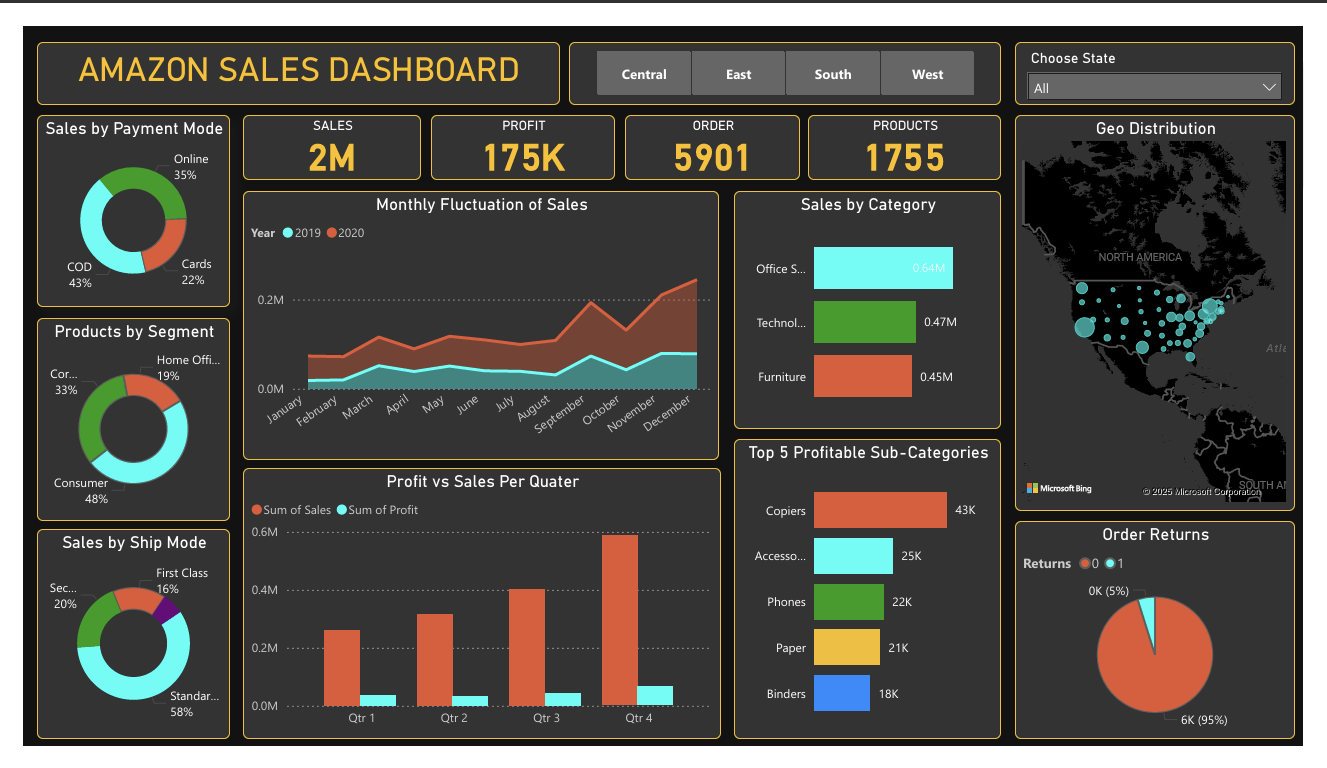

The page's visual inventory and layout, read from the dashboard file:
{"tool":"powerbi","page":{"name":"Page 1","canvas":[1280,720],"ordinal":0},"visuals":[{"type":"donutChart","title":"Sales by Payment Mode","fields":{"Category":["Sheet1.Payment Mode"],"Y":["Sum(Sheet1.Sales)"]},"box":[12.8,88.4,193,191.9],"z":0},{"type":"barChart","title":" Sales by Category","fields":{"Y":["Sum(Sheet1.Sales)"],"Category":["Sheet1.Category"]},"box":[710.5,164,266.3,238.4],"z":1000},{"type":"barChart","title":"Top 5 Profitable Sub-Categories","fields":{"Category":["Sheet1.Sub-Category"],"Y":["Sum(Sheet1.Profit)"]},"box":[710.5,411.6,266.3,300],"z":2000},{"type":"donutChart","title":"Sales by Ship Mode","fields":{"Y":["Sum(Sheet1.Sales)"],"Category":["Sheet1.Ship Mode"]},"box":[12.8,502.3,193,209.3],"z":3000},{"type":"donutChart","title":"Products by Segment ","fields":{"Category":["Sheet1.Segment"],"Y":["Sum(Sheet1.Sales)"]},"box":[12.8,290.7,193,203.5],"z":4000},{"type":"map","title":"Geo Distribution","fields":{"Category":["Sheet1.State"],"Size":["Sum(Sheet1.Sales)"]},"box":[990.7,88.4,280.2,395.3],"z":5000},{"type":"pieChart","title":"Order Returns","fields":{"Category":["Sheet1.Returns"],"Y":["CountNonNull(Sheet1.Customer ID)"]},"box":[990.7,494.2,280.2,217.4],"z":6000},{"type":"stackedAreaChart","title":"Monthly Fluctuation of Sales","fields":{"Category":["Sheet1.Order Date.Variation.Date Hierarchy.Month"],"Y":["Sum(Sheet1.Sales)"],"Series":["Sheet1.Order Date.Variation.Date Hierarchy.Year"]},"box":[218.6,164,476.7,268.6],"z":7000},{"type":"clusteredColumnChart","title":"Profit vs Sales Per Quater","fields":{"Category":["Sheet1.Order Date.Variation.Date Hierarchy.Quarter"],"Y":["Sum(Sheet1.Sales)","Sum(Sheet1.Profit)"]},"box":[218.6,440.7,477.9,270.9],"z":8000},{"type":"slicer","fields":{"Values":["Sheet1.Region"]},"box":[545.4,15.1,431.4,62.8],"z":9000},{"type":"slicer","fields":{"Values":["Sheet1.State"]},"box":[990.7,15.1,280.2,62.8],"z":10000},{"type":"card","title":"SALES","fields":{"Values":["Sum(Sheet1.Sales)"]},"box":[218.6,88.4,177.9,65.1],"z":11000},{"type":"card","title":"PROFIT","fields":{"Values":["Sum(Sheet1.Profit)"]},"box":[407,88.4,183.7,65.1],"z":12000},{"type":"card","title":"ORDER","fields":{"Values":["CountNonNull(Sheet1.Order ID)"]},"box":[601.2,88.4,174.4,65.1],"z":13000},{"type":"card","title":"PRODUCTS","fields":{"Values":["Count(Sheet1.Product ID)"]},"box":[783.7,88.4,193,65.1],"z":14000},{"type":"textbox","box":[12.8,15.1,523.3,62.8],"z":15000}]}

Visuals, with their boxes in screenshot pixels (x1, y1, x2, y2), scaled from the page's 1280x720 canvas onto the 1327x768 screenshot:
"Sales by Payment Mode" donutChart: 13/94/213/299
" Sales by Category" barChart: 737/175/1013/429
"Top 5 Profitable Sub-Categories" barChart: 737/439/1013/759
"Sales by Ship Mode" donutChart: 13/536/213/759
"Products by Segment " donutChart: 13/310/213/527
"Geo Distribution" map: 1027/94/1318/516
"Order Returns" pieChart: 1027/527/1318/759
"Monthly Fluctuation of Sales" stackedAreaChart: 227/175/721/461
"Profit vs Sales Per Quater" clusteredColumnChart: 227/470/722/759
slicer - Sheet1.Region: 565/16/1013/83
slicer - Sheet1.State: 1027/16/1318/83
"SALES" card: 227/94/411/164
"PROFIT" card: 422/94/612/164
"ORDER" card: 623/94/804/164
"PRODUCTS" card: 812/94/1013/164
textbox: 13/16/556/83
